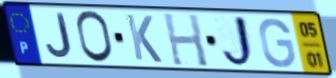G: (257, 16, 298, 70)
H: (161, 11, 211, 69)
J: (220, 13, 259, 70), (45, 12, 75, 60)
K: (124, 12, 165, 65)
O: (74, 9, 116, 65)
